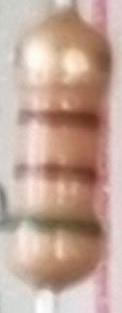Brown: (17, 109, 100, 130), (15, 163, 96, 184)
Green: (5, 215, 100, 236)
Side-Silver: (13, 45, 107, 72)
